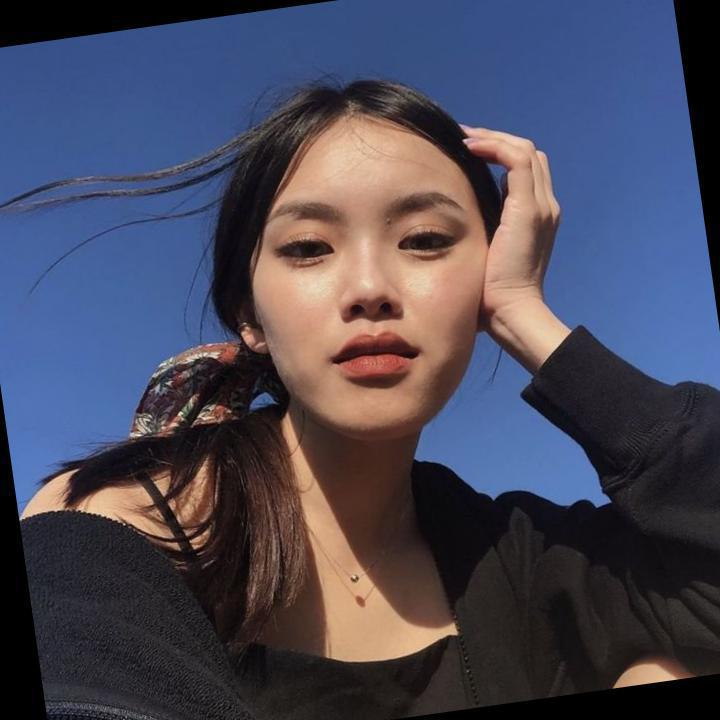Sober: (261, 139, 478, 419)
